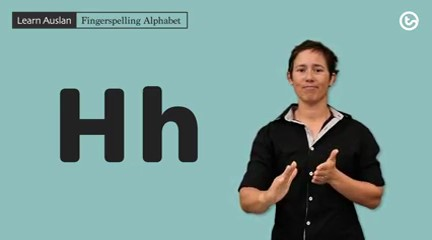H: (266, 148, 342, 203)
